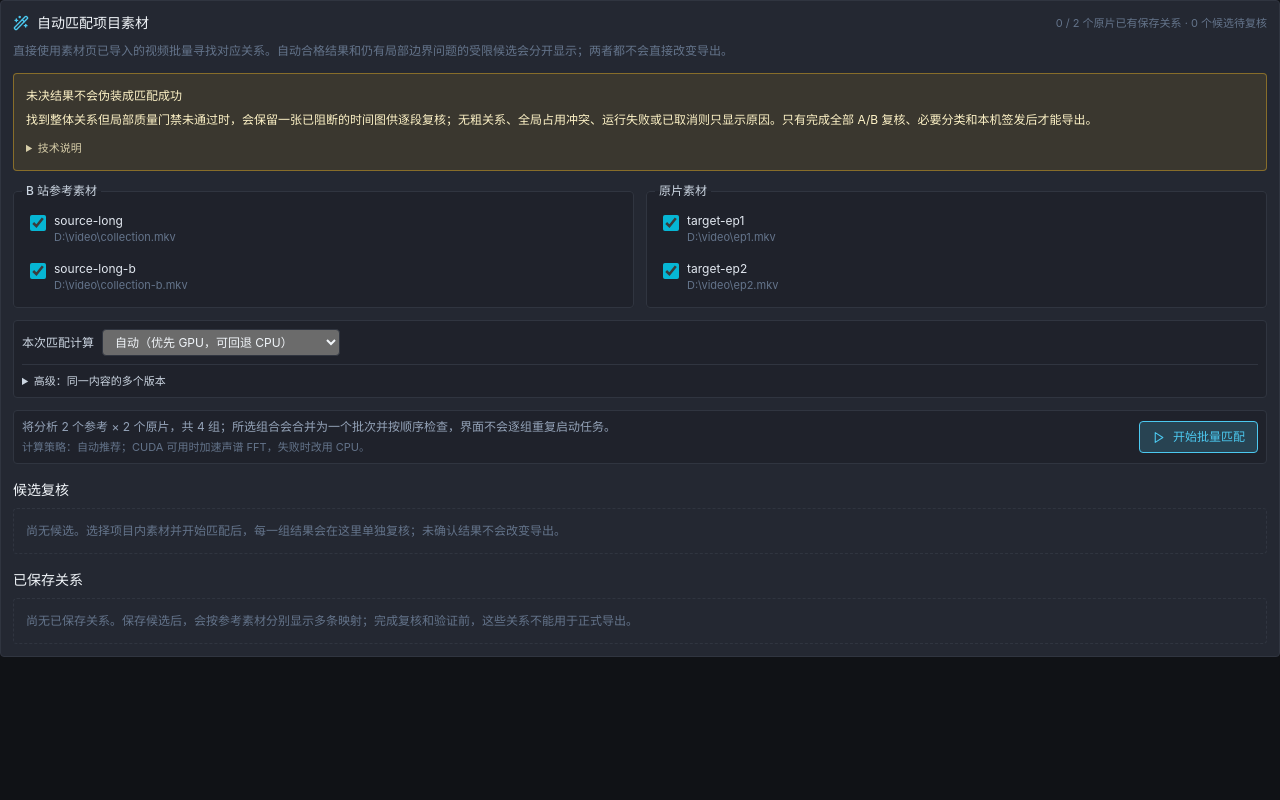
多媒体自动匹配工作台 › N×M 只发布原生组件最终分配，不按前端 confidence 重新求解
This screenshot has width=1280, height=800.
What coordinates should you click on to do the following:
click the button "开始批量匹配"
I would click on:
 (1198, 437)
Its box is [1139,421,1258,453].
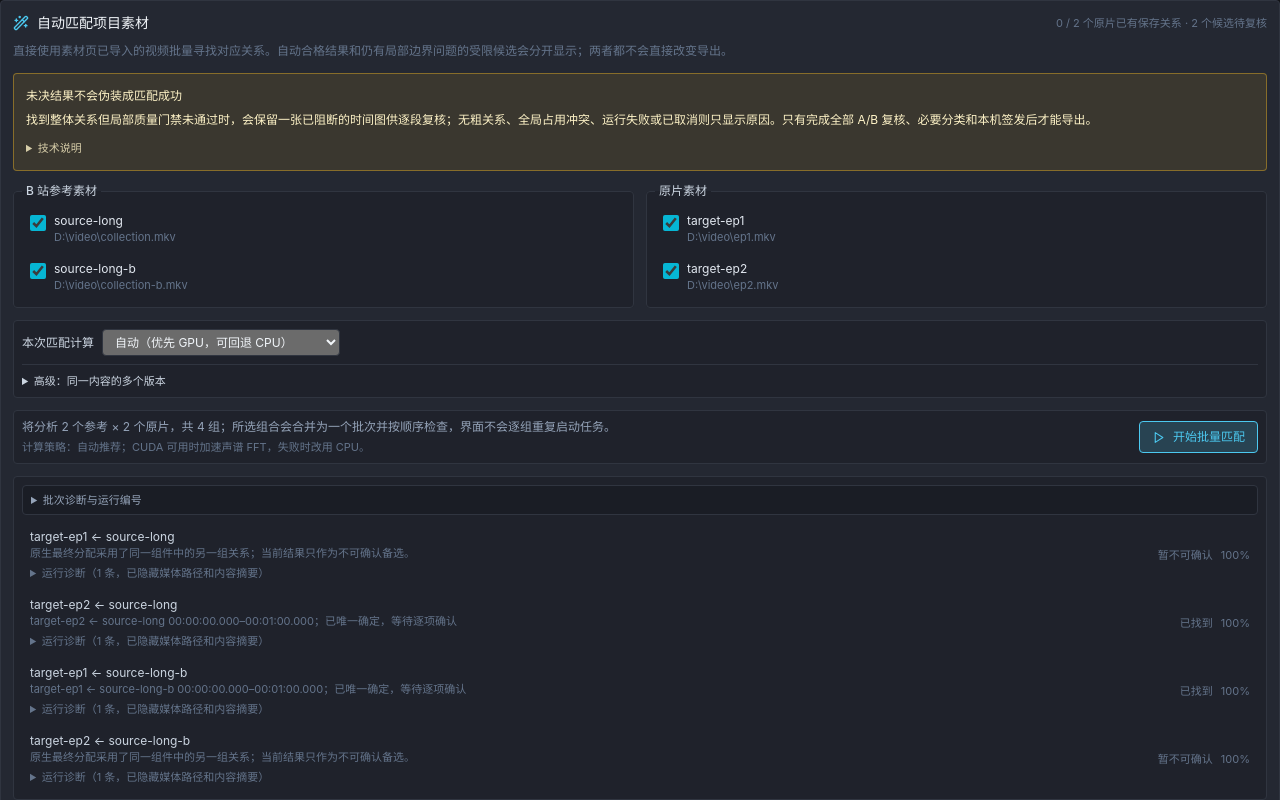
Expected: the text "原生最终分配采用了同一组件中的另一组关系；当前结果只作为不可确认备选。" is shown 2 times, [30,546,415,560]; [30,750,415,764]
